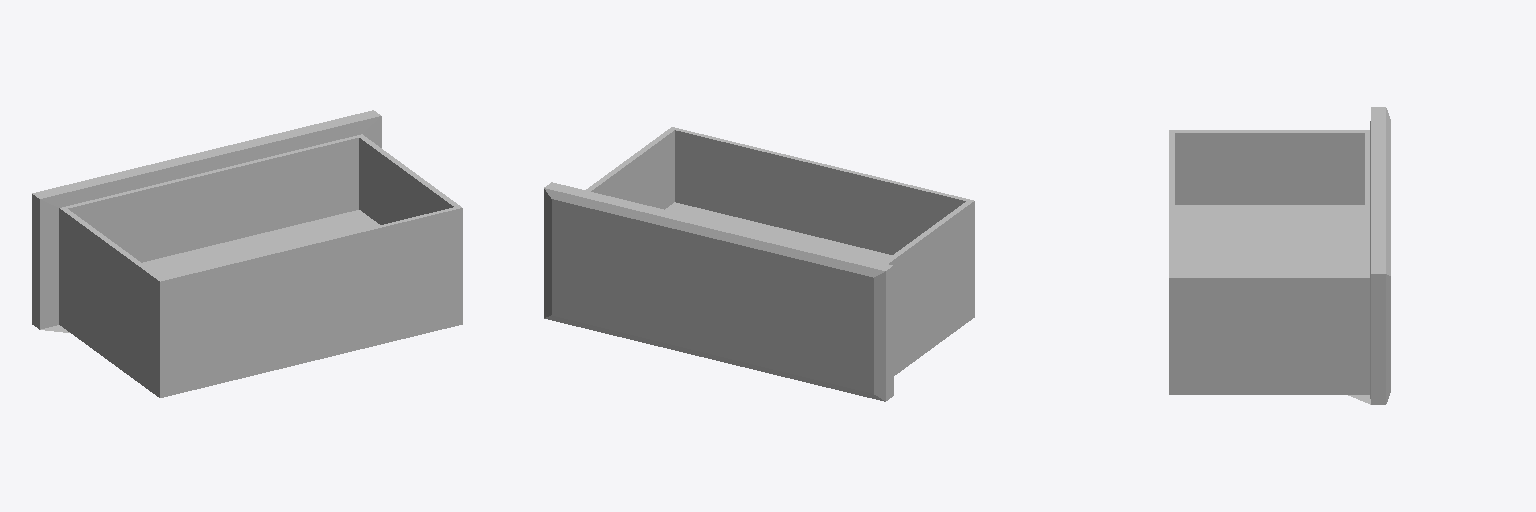
File: noHandle.obj
3 views of the same model, side by side, from view 1: azimuth 30°, elevation 25°; view 2: azimuth 150°, elevation 25°; view 3: azimuth 270°, elevation 25° (orthographic).
Parts seen in each view (by area): view 1: Cube.012_Cube.014; view 2: Cube.012_Cube.014; view 3: Cube.012_Cube.014.
Boxes of the visible parts, <box> form: Cube.012_Cube.014: <box>32,110,462,397</box>; Cube.012_Cube.014: <box>544,127,974,401</box>; Cube.012_Cube.014: <box>1169,107,1390,404</box>.
Bounding box in the file's own units: 1.77 × 0.6466 × 0.9932.